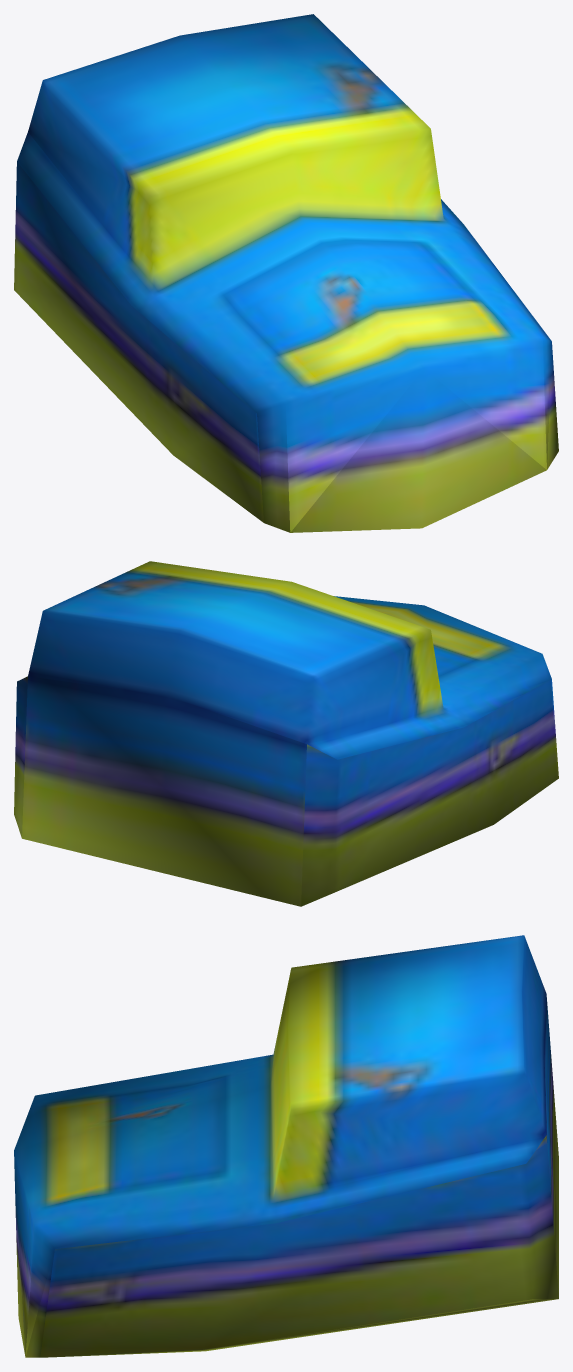
File: tt_m_chr_avt_acc_pac_backpack.glb
3 renders of one model, top to bottom at view 1: azimuth 30°, elevation 25°; view 2: azimuth 150°, elevation 25°; view 3: azimuth 270°, elevation 25°, orthographic. The views are drawn at different scales.
Visible parts, largest first — view 1: backpack; view 2: backpack; view 3: backpack.
Part boxes in pixels (bbox=[...]): backpack: bbox=[14, 14, 558, 532]; backpack: bbox=[14, 561, 558, 906]; backpack: bbox=[14, 935, 558, 1357].
Bounding box in the file's own units: 2.62 × 2.38 × 3.59.
Materials: 1 (1 with a texture image).
